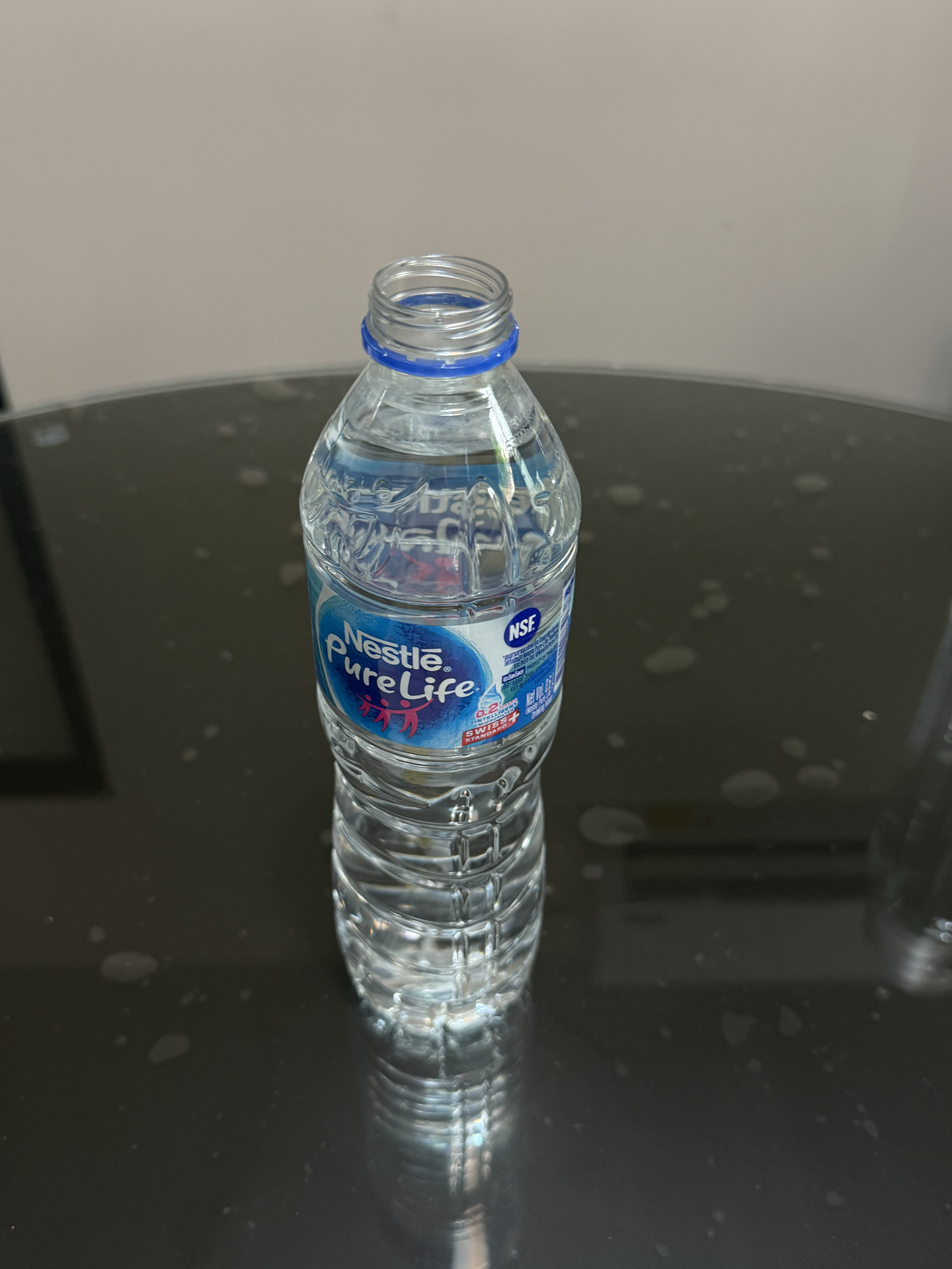no_cap: (355, 250, 524, 381)
